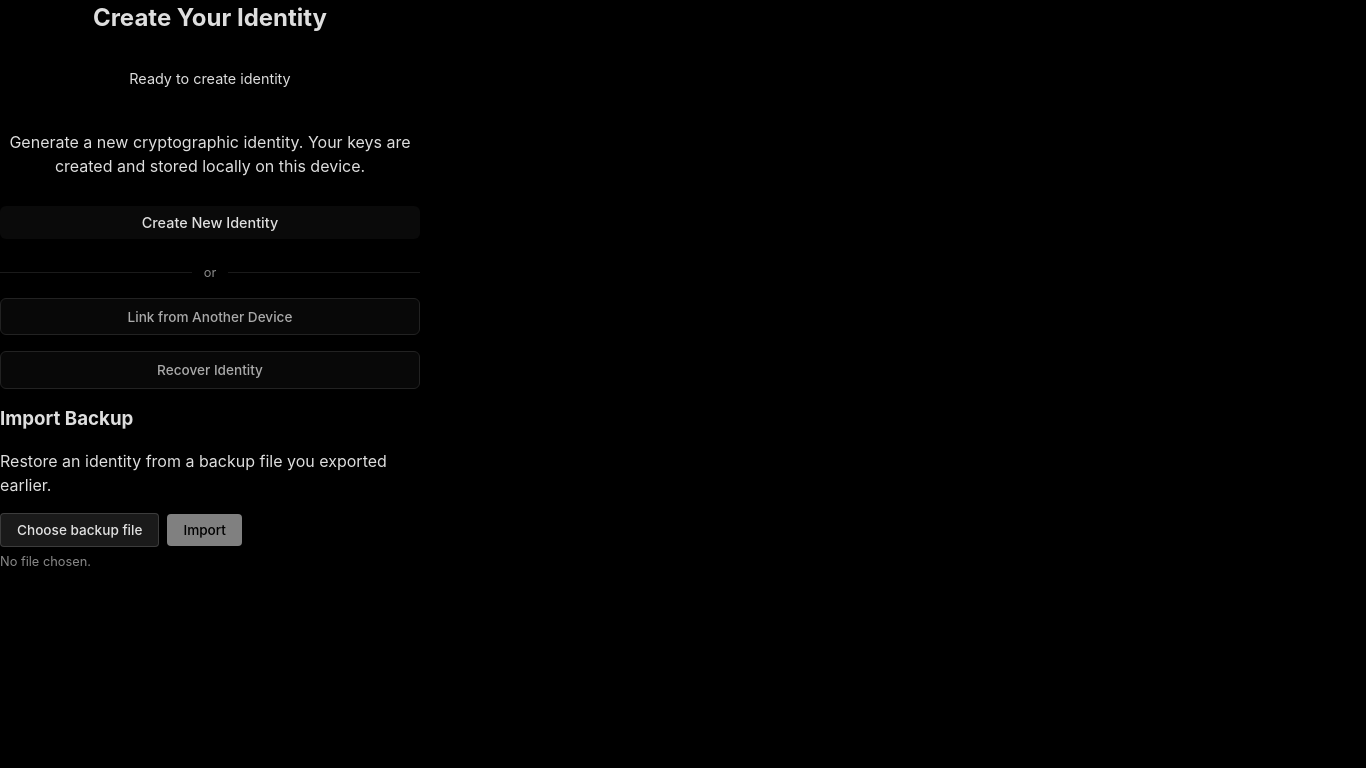
recovery without an existing local identity › opens guardian reconstruction before any server registration or key generation
The image size is (1366, 768).
Click the button "Recover Identity": coordinates (210, 370) [0,351,420,389]
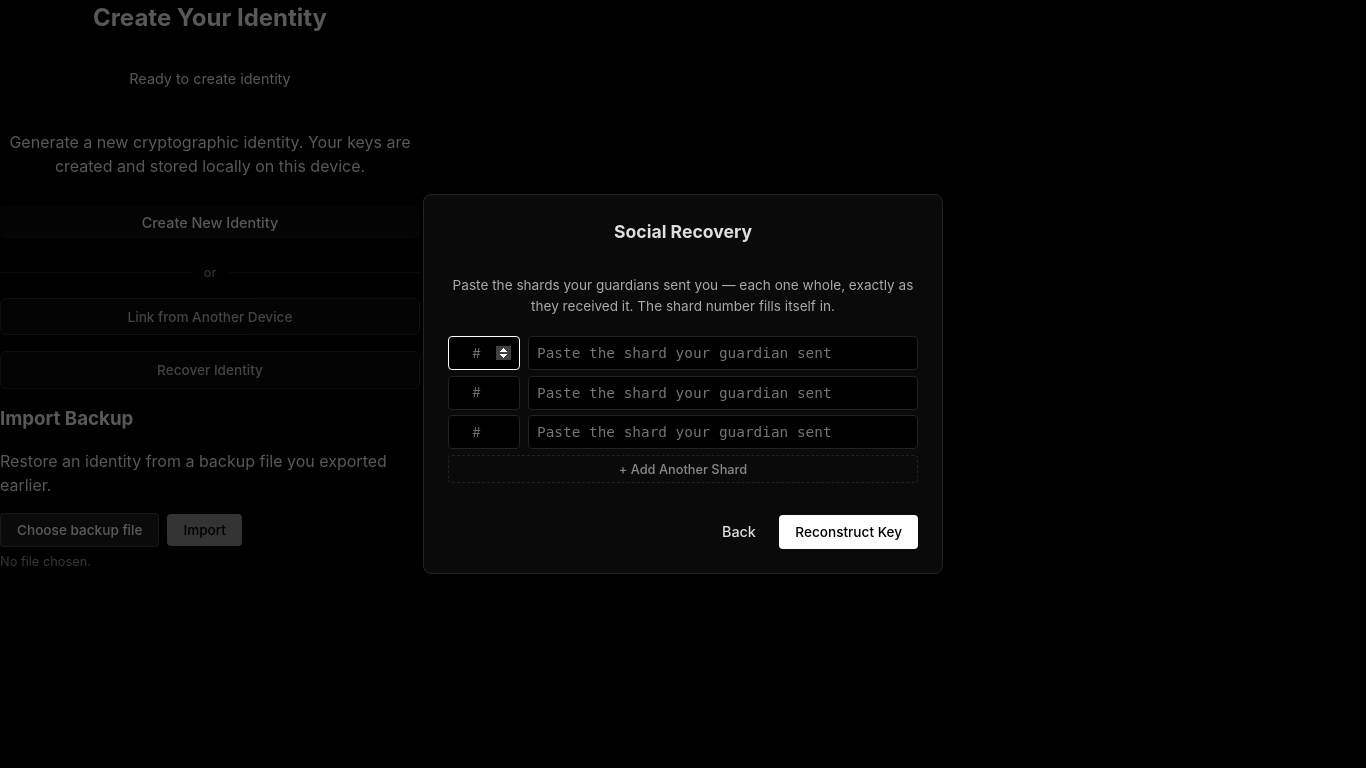
Now the button "Reconstruct Key" is shown, box [779,515,918,549]
Now the field named "Shard 1, as sent by your guardian" is shown, box [528,336,918,370]
